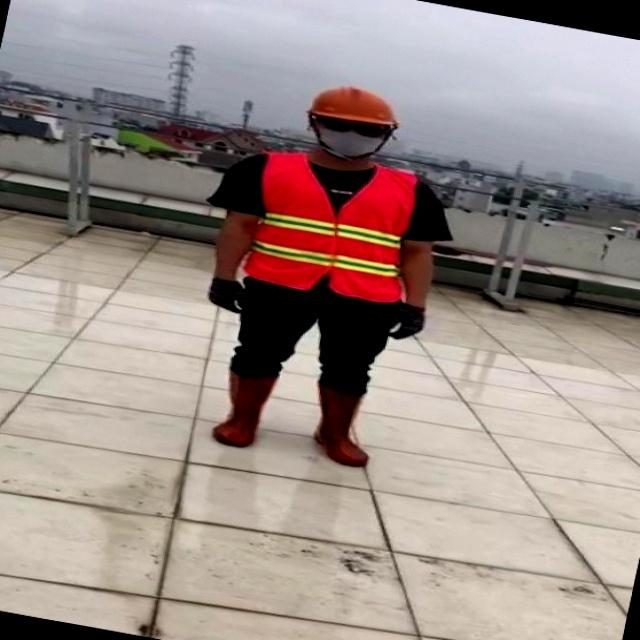helmet: (304, 73, 404, 125)
safety_vest: (238, 141, 419, 317)
